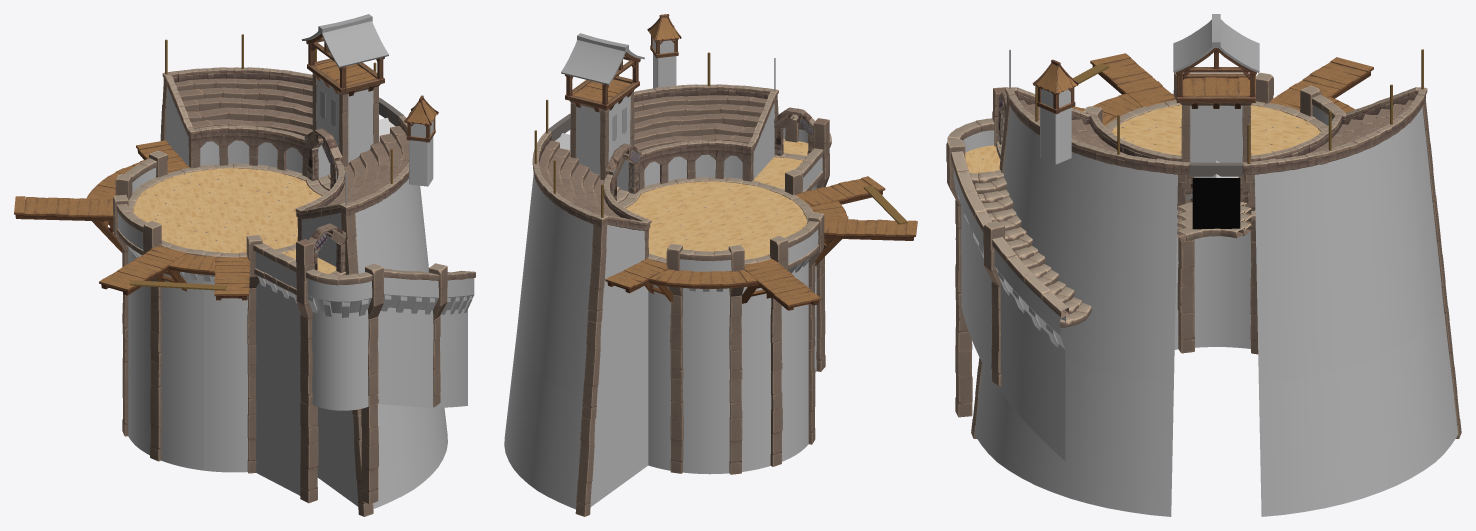
File: _rena_0.5.fbx
The picture shows the model from 3 angles, left to right: view 1: azimuth 30°, elevation 25°; view 2: azimuth 150°, elevation 25°; view 3: azimuth 270°, elevation 25°; orthographic projection. The views are drawn at different scales.
Visible parts, largest first — view 1: polySurface713, polySurface278, polySurface223, polySurface30, Pillar_low44, polySurface715, polySurface716, polySurface717, Arches_1, polySurface697, WoodenWalkway1_low, polySurface647 (+31 smaller); view 2: polySurface708, polySurface278, polySurface223, polySurface30, Pillar_low44, Arches_4, polySurface697, polySurface647, WoodenWalkway1_low, WoodenWalkway1_low3, polySurface666, polySurface356 (+26 smaller); view 3: polySurface708, polySurface713, polySurface717, polySurface278, polySurface716, polySurface697, polySurface30, polySurface647, pCube29, Pillar_low44, WoodenWalkway1_low, WoodenWalkway1_low3 (+23 smaller).
Part boxes in pixels (left/top/right/bottom): polySurface713: left=301, top=179, right=447, bottom=516; polySurface278: left=128, top=339, right=300, bottom=495; polySurface223: left=117, top=213, right=300, bottom=398; polySurface30: left=133, top=168, right=336, bottom=273; Pillar_low44: left=175, top=78, right=408, bottom=205; polySurface715: left=306, top=269, right=372, bottom=410; polySurface716: left=378, top=268, right=439, bottom=407; polySurface717: left=438, top=270, right=475, bottom=407; Arches_1: left=187, top=125, right=307, bottom=176; polySurface697: left=169, top=67, right=409, bottom=213; WoodenWalkway1_low: left=14, top=196, right=122, bottom=252; polySurface647: left=316, top=79, right=373, bottom=162; polySurface708: left=504, top=174, right=648, bottom=516; polySurface278: left=648, top=278, right=816, bottom=474; polySurface223: left=648, top=156, right=822, bottom=380; polySurface30: left=626, top=157, right=807, bottom=259; Pillar_low44: left=539, top=95, right=766, bottom=217; Arches_4: left=639, top=140, right=754, bottom=189; polySurface697: left=532, top=84, right=772, bottom=225; polySurface647: left=576, top=95, right=630, bottom=176; WoodenWalkway1_low: left=742, top=258, right=820, bottom=310; WoodenWalkway1_low3: left=815, top=219, right=917, bottom=265; polySurface666: left=561, top=40, right=625, bottom=84; polySurface356: left=648, top=269, right=758, bottom=288; polySurface708: left=1254, top=99, right=1461, bottom=516; polySurface713: left=971, top=99, right=1177, bottom=516; polySurface717: left=992, top=237, right=1068, bottom=460; polySurface278: left=1174, top=236, right=1251, bottom=349; polySurface716: left=951, top=151, right=991, bottom=379; polySurface697: left=1007, top=90, right=1425, bottom=175; polySurface30: left=1111, top=105, right=1320, bottom=155; polySurface647: left=1190, top=93, right=1242, bottom=162; pCube29: left=1192, top=178, right=1240, bottom=231; Pillar_low44: left=1019, top=100, right=1413, bottom=183; WoodenWalkway1_low: left=1269, top=57, right=1373, bottom=110; WoodenWalkway1_low3: left=1090, top=53, right=1175, bottom=106.
Bounding box in the file's own units: 3.8 × 4.04 × 4.14.
